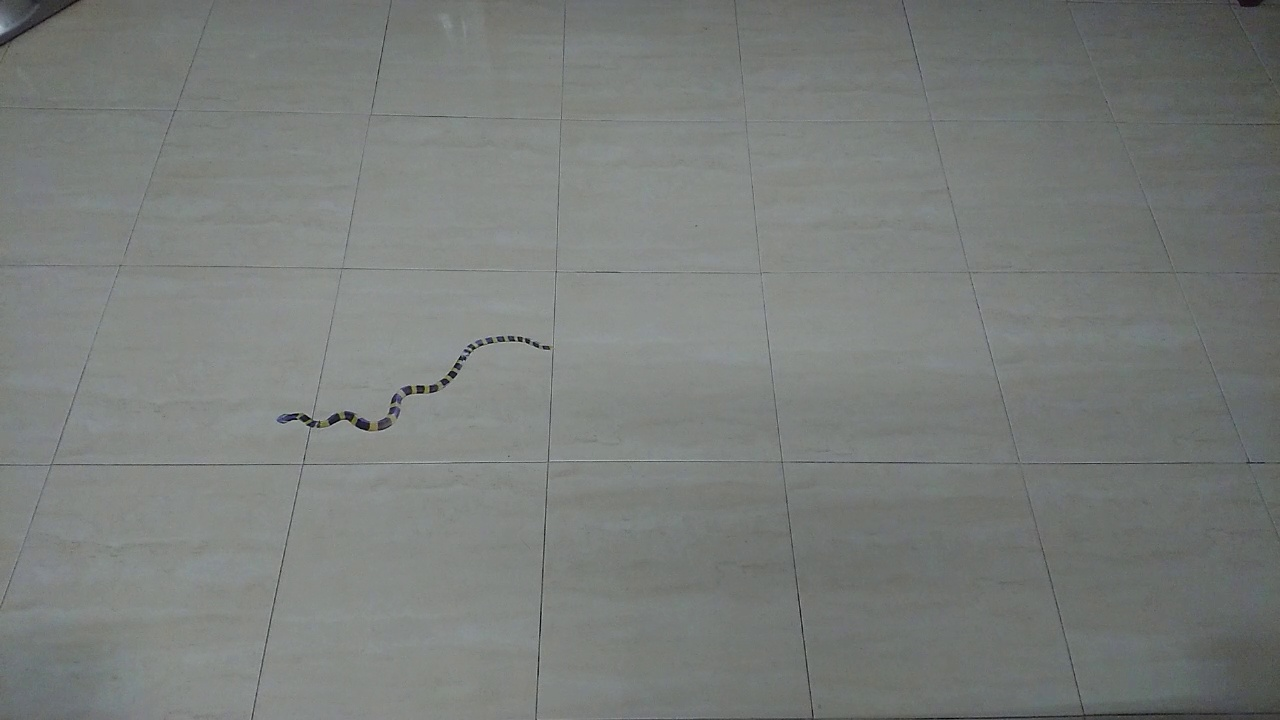snake: (263, 323, 561, 441)
